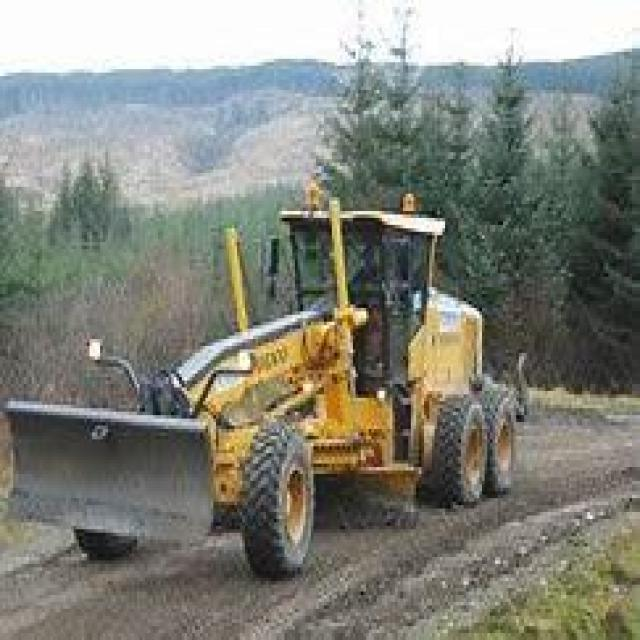Grader: (8, 187, 529, 578)
